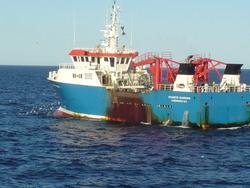Cargoship: (45, 7, 250, 131)
